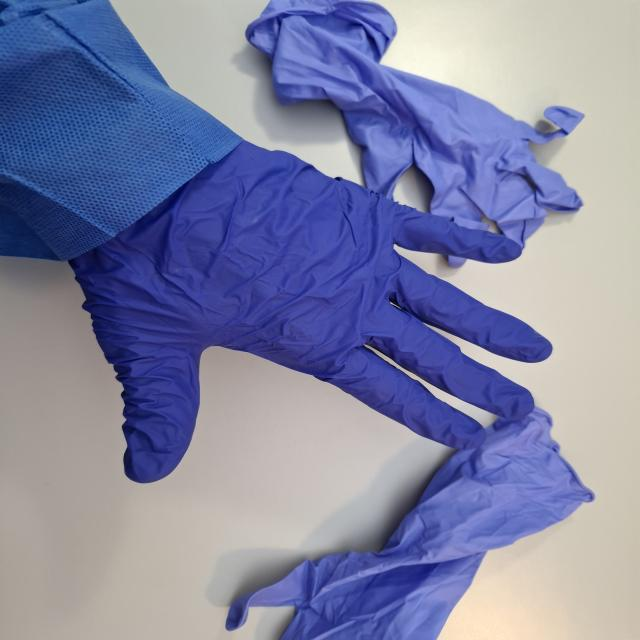glove_on: (62, 133, 554, 486)
